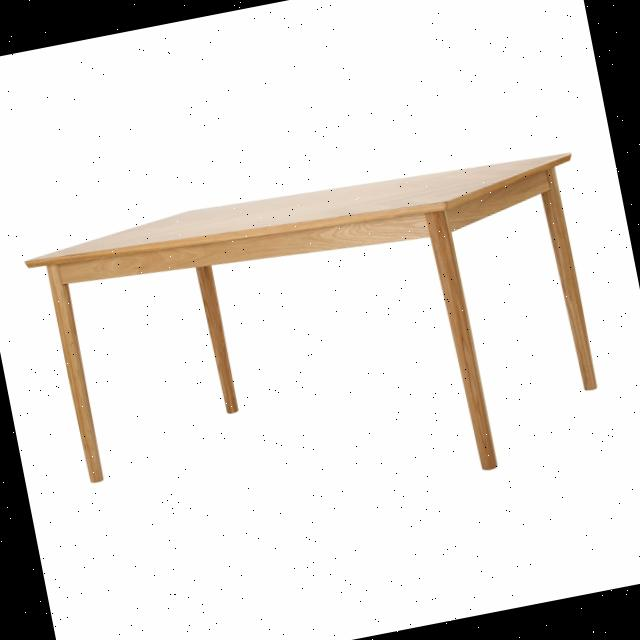Table: (0, 82, 640, 610)
